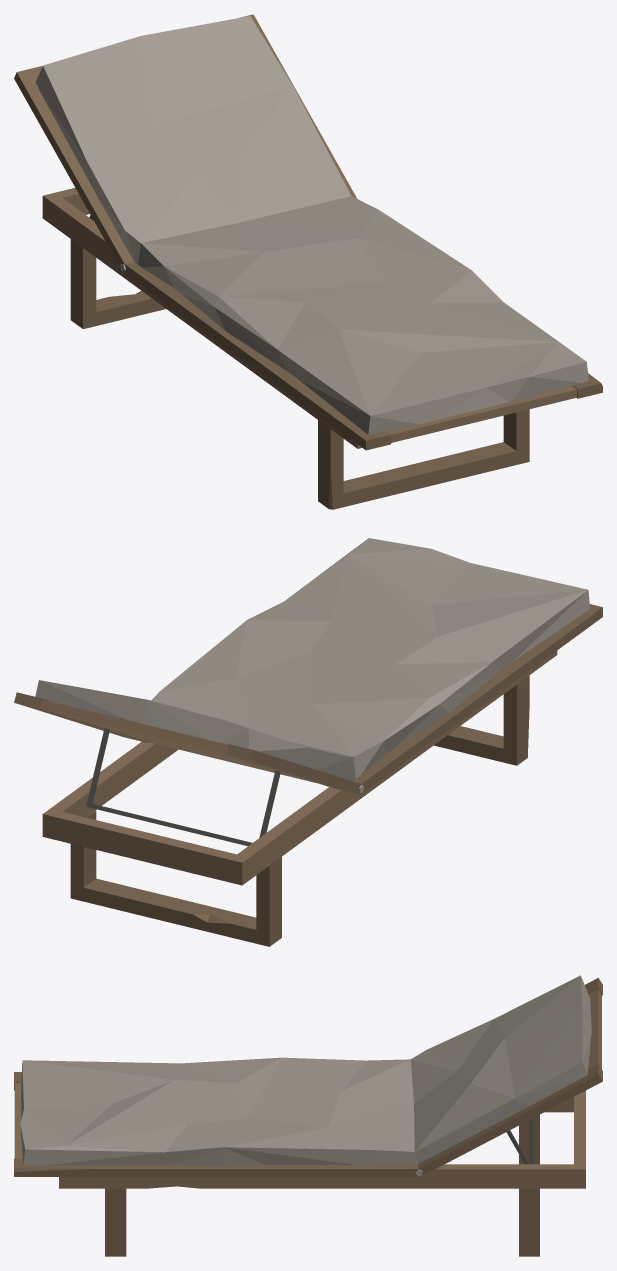
The model's file is SM_Props_City_Beach_DeckChair_01.fbx.
3 renders of one model, top to bottom at view 1: azimuth 30°, elevation 25°; view 2: azimuth 150°, elevation 25°; view 3: azimuth 270°, elevation 25°, orthographic. The views are drawn at different scales.
Visible parts, largest first — view 1: SM_Props_City_Beach_DeckChair_01; view 2: SM_Props_City_Beach_DeckChair_01; view 3: SM_Props_City_Beach_DeckChair_01.
Boxes of the visible parts, x1,y1,x2,y2 form: SM_Props_City_Beach_DeckChair_01: [14, 14, 602, 509]; SM_Props_City_Beach_DeckChair_01: [14, 538, 602, 946]; SM_Props_City_Beach_DeckChair_01: [14, 975, 602, 1256].
Size of the model in its own units: 76.8 by 74.27 by 196.
